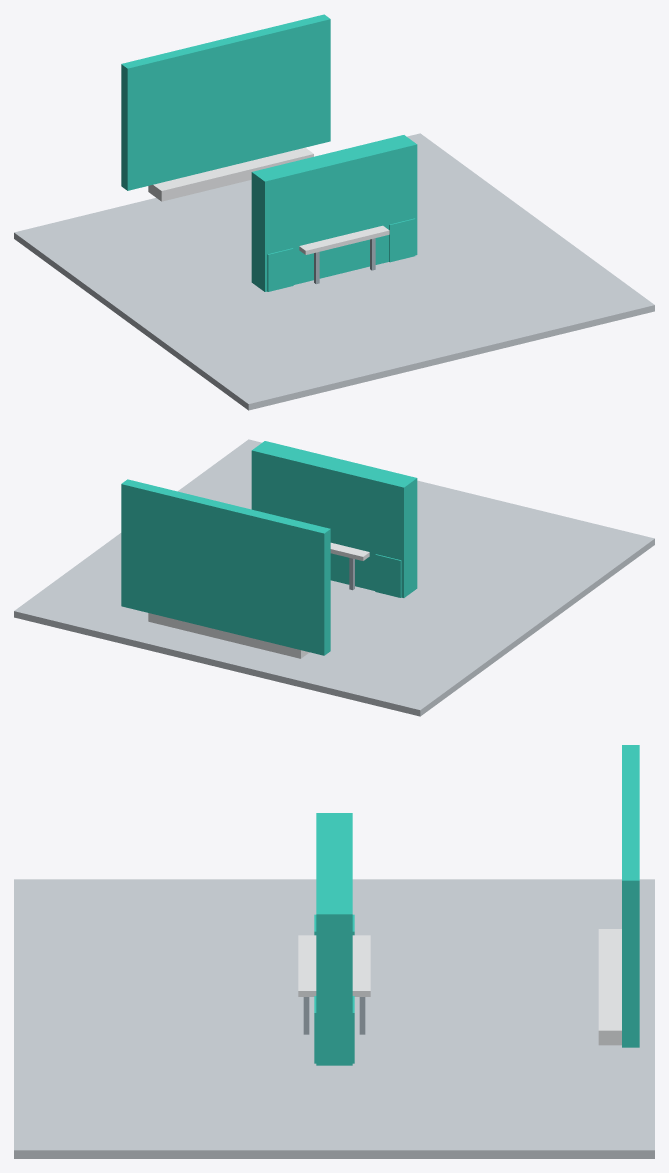
3 renders of one model, top to bottom at view 1: azimuth 30°, elevation 25°; view 2: azimuth 150°, elevation 25°; view 3: azimuth 270°, elevation 25°, orthographic. The views are drawn at different scales.
Visible parts, largest first — view 1: Exhibition Booth Concept; view 2: Exhibition Booth Concept; view 3: Exhibition Booth Concept.
Boxes of the visible parts, <box> form: Exhibition Booth Concept: <box>14,14,654,410</box>; Exhibition Booth Concept: <box>14,439,654,716</box>; Exhibition Booth Concept: <box>14,745,654,1158</box>.
Bounding box in the file's own units: 8 × 2.9 × 8.
